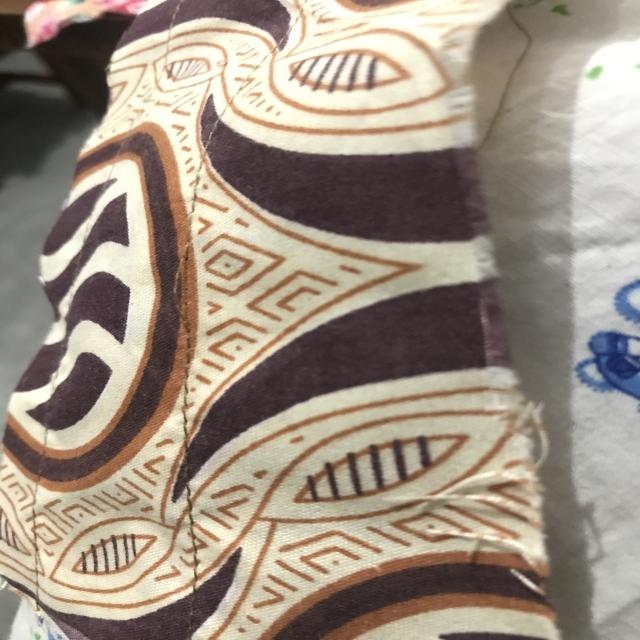good: (178, 394, 210, 498)
skip: (142, 232, 212, 336)
